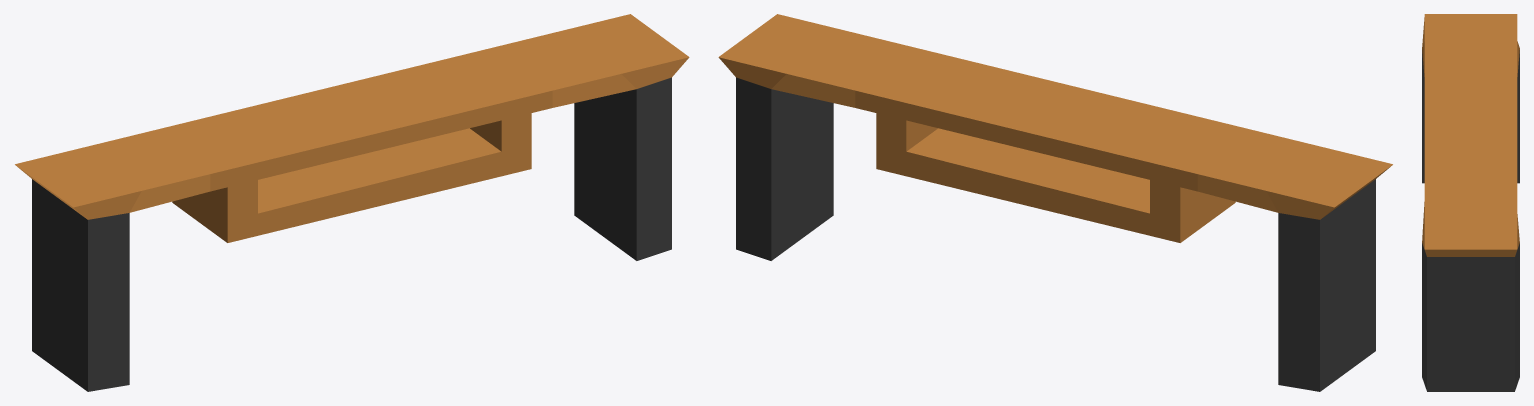
The model's file is Decoracion.fbx.
3 views of the same model, side by side, from view 1: azimuth 30°, elevation 25°; view 2: azimuth 150°, elevation 25°; view 3: azimuth 270°, elevation 25° (orthographic). The views are drawn at different scales.
Visible parts, largest first — view 1: Cube; view 2: Cube; view 3: Cube.
Boxes of the visible parts, x1,y1,x2,y2 form: Cube: (15, 14, 689, 391); Cube: (718, 14, 1392, 391); Cube: (1422, 14, 1519, 391).
Size of the model in its own units: 1206 by 354 by 212.
